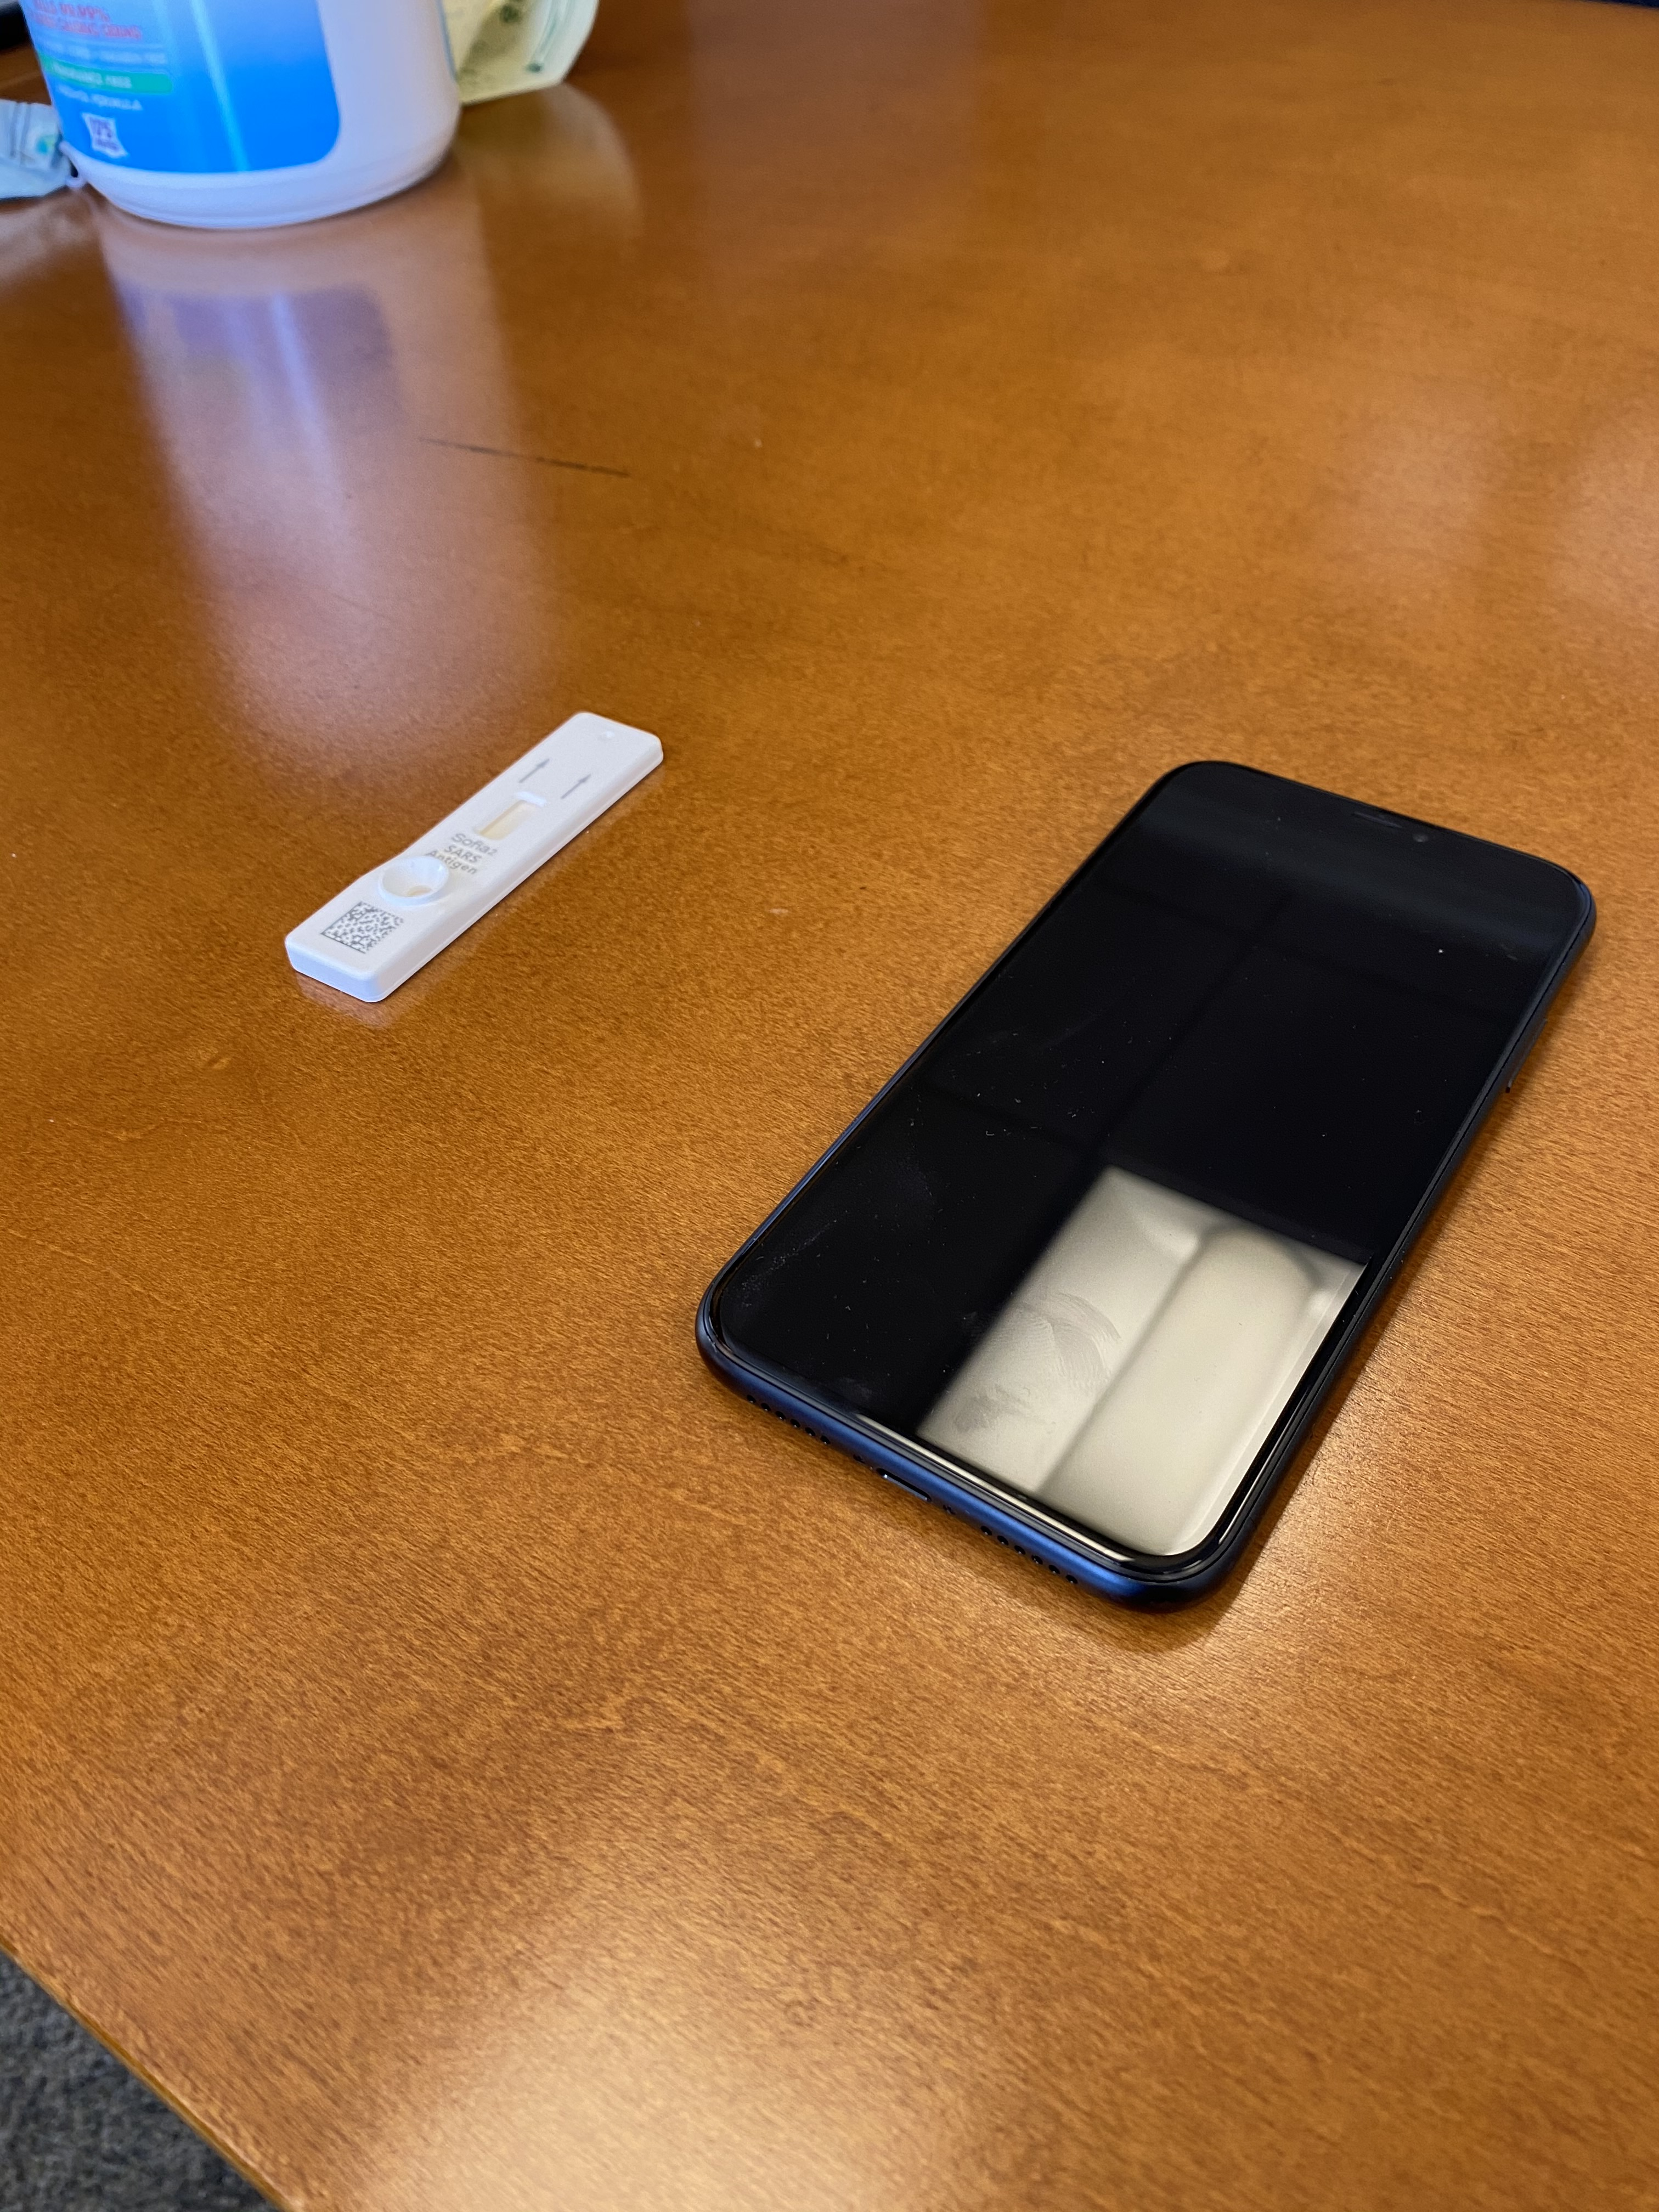quidel: (286, 704, 674, 1008)
